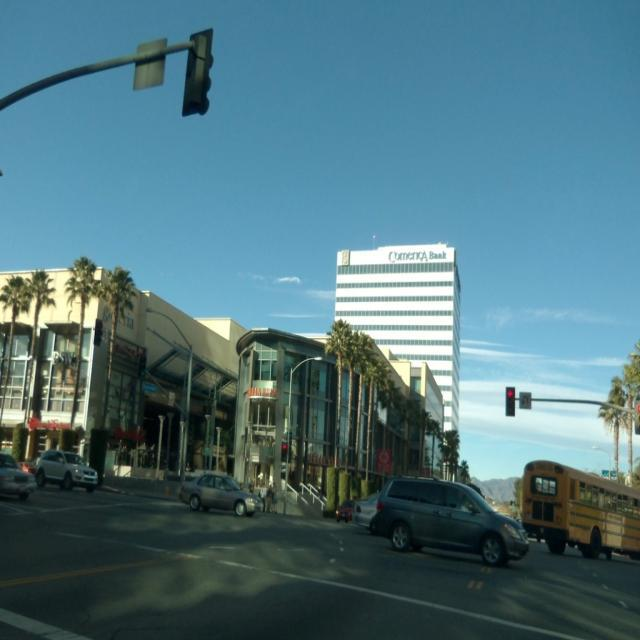traffic light: (505, 385, 517, 420)
